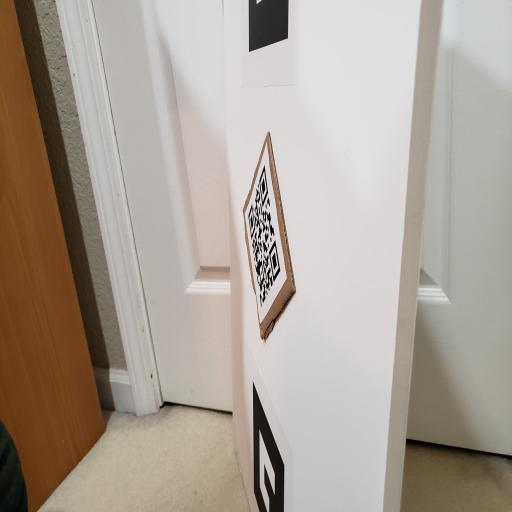QR_CODE: (234, 156, 287, 315)
